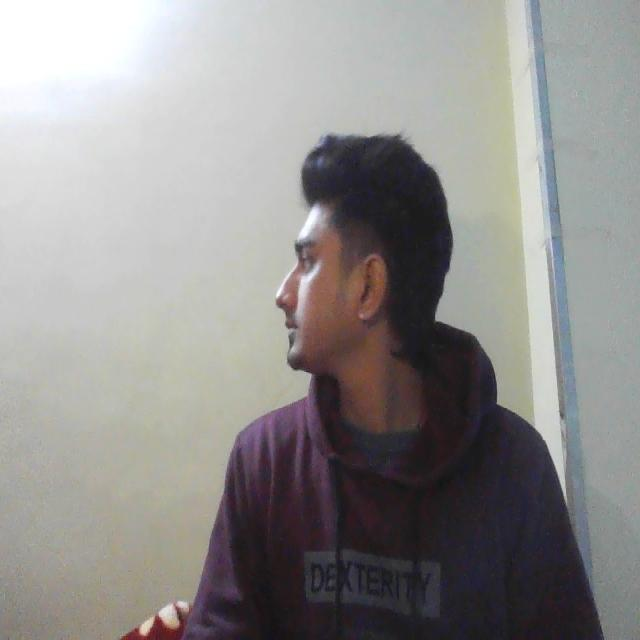real: (280, 161, 395, 379)
